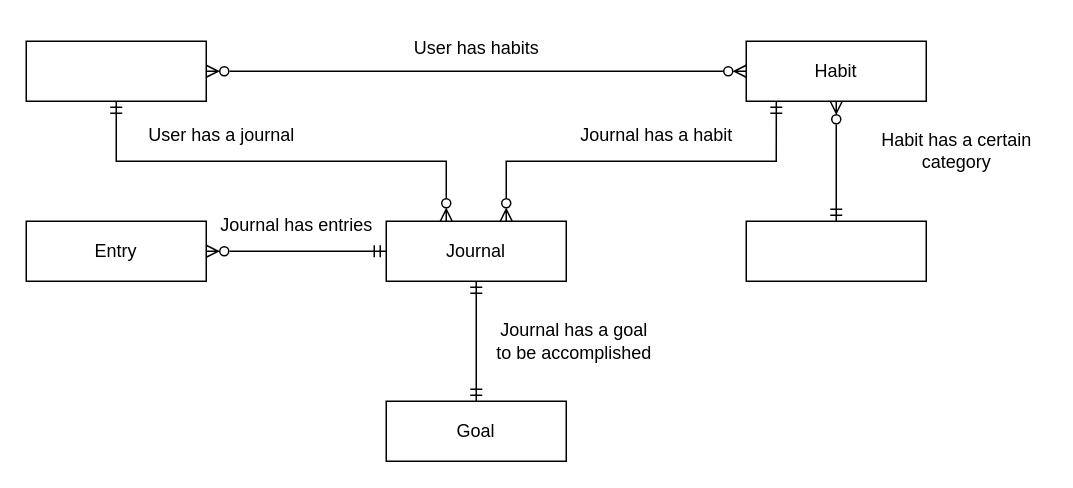
The diagram is 1073 pixels wide and 488 high, and some of its shapes have lost their labels. The centre of each missing label's shape, as x and y in pixels:
"Habit Category" belongs at pixel 835 250.
"User" belongs at pixel 115 70.
